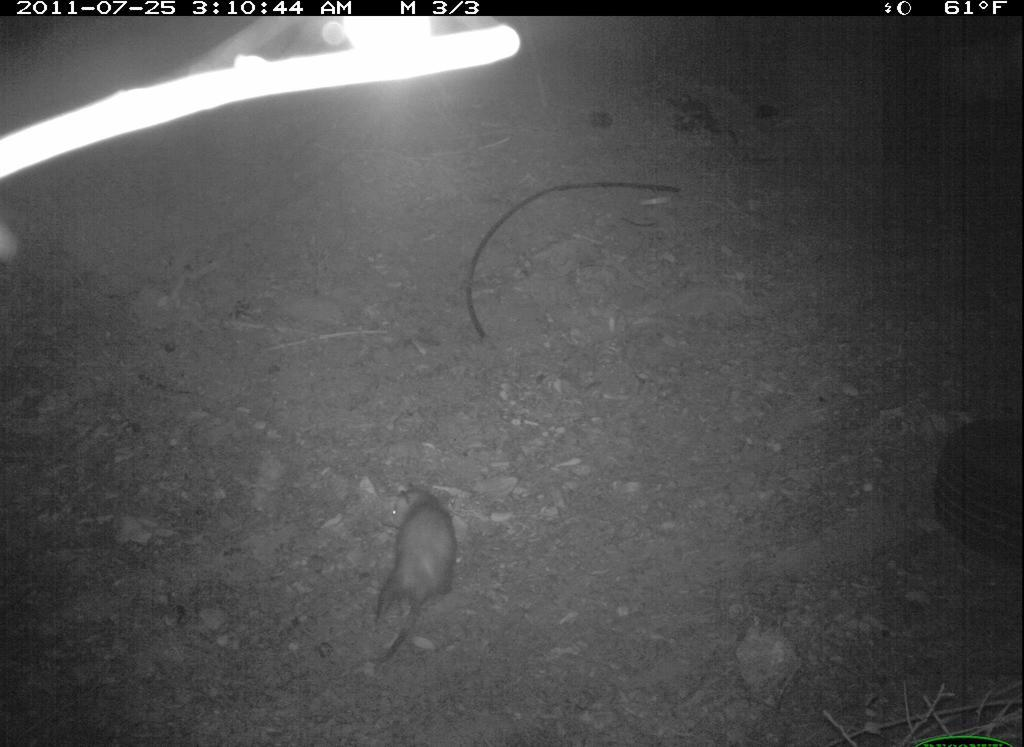opossum: (355, 475, 468, 684)
